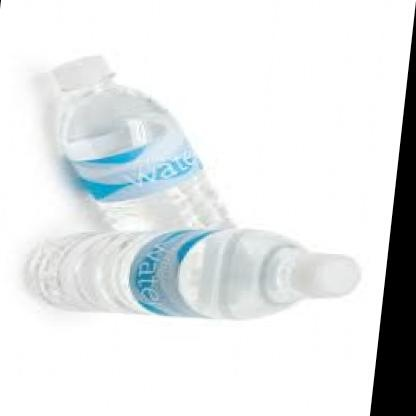trash: (51, 56, 229, 230), (26, 229, 359, 318)
